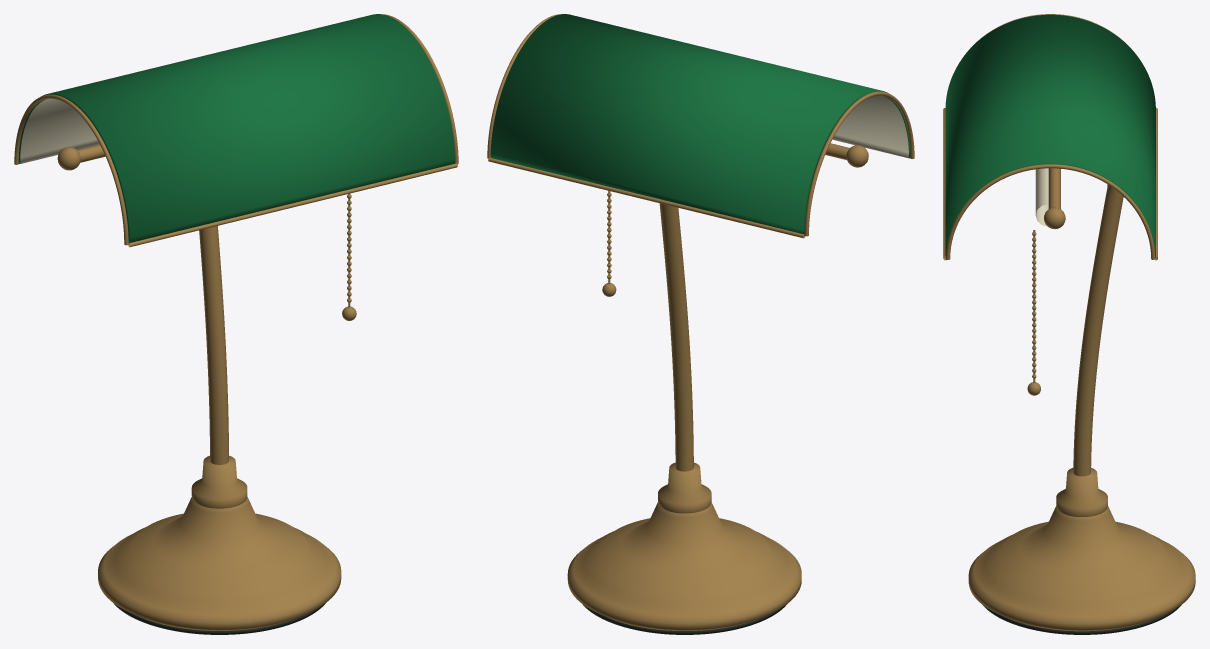
File: BankersLamp_Starter.fbx
The picture shows the model from 3 angles, left to right: view 1: azimuth 30°, elevation 25°; view 2: azimuth 150°, elevation 25°; view 3: azimuth 270°, elevation 25°; orthographic projection. The views are drawn at different scales.
Parts seen in each view (by area): view 1: Shade_GreenGlass, Base_SpunBrass, Stem_CurvedBrass, Stem_Collar, Shade_Rim_-0.1, Shade_EndRim_-0.13, Base_Felt, Shade_EndRim_0.13; view 2: Shade_GreenGlass, Base_SpunBrass, Stem_CurvedBrass, Stem_Collar, Shade_Rim_0.054, Shade_EndRim_-0.13, Base_Felt, Shade_EndRim_0.13; view 3: Shade_GreenGlass, Base_SpunBrass, Stem_CurvedBrass, Stem_Collar, Shade_EndRim_0.13, Base_Felt, Bulb_OpalTube, Shade_Axle, Shade_Rim_-0.1, Shade_PivotCap_0.13.
Part boxes in pixels (left/top/right/bottom): Shade_GreenGlass: left=18, top=14, right=455, bottom=244; Base_SpunBrass: left=98, top=497, right=341, bottom=630; Stem_CurvedBrass: left=199, top=226, right=228, bottom=464; Stem_Collar: left=191, top=455, right=247, bottom=508; Shade_Rim_-0.1: left=128, top=163, right=457, bottom=247; Shade_EndRim_-0.13: left=14, top=94, right=128, bottom=245; Base_Felt: left=113, top=603, right=325, bottom=634; Shade_EndRim_0.13: left=383, top=14, right=458, bottom=164; Shade_GreenGlass: left=490, top=14, right=910, bottom=234; Base_SpunBrass: left=567, top=502, right=801, bottom=630; Stem_CurvedBrass: left=659, top=203, right=693, bottom=471; Stem_Collar: left=658, top=462, right=711, bottom=513; Shade_Rim_0.054: left=488, top=157, right=804, bottom=238; Shade_EndRim_-0.13: left=804, top=91, right=914, bottom=236; Base_Felt: left=582, top=604, right=786, bottom=634; Shade_EndRim_0.13: left=487, top=14, right=561, bottom=158; Shade_GreenGlass: left=945, top=14, right=1155, bottom=257; Base_SpunBrass: left=968, top=506, right=1195, bottom=631; Stem_CurvedBrass: left=1073, top=184, right=1123, bottom=476; Stem_Collar: left=1056, top=467, right=1107, bottom=516; Shade_EndRim_0.13: left=946, top=164, right=1155, bottom=259; Base_Felt: left=983, top=605, right=1181, bottom=634; Bulb_OpalTube: left=1035, top=168, right=1048, bottom=226; Shade_Axle: left=1048, top=168, right=1060, bottom=208; Shade_Rim_-0.1: left=943, top=107, right=946, bottom=260; Shade_PivotCap_0.13: left=1044, top=207, right=1065, bottom=229.
Bounding box in the file's own units: 0.276 × 0.405 × 0.1845.
